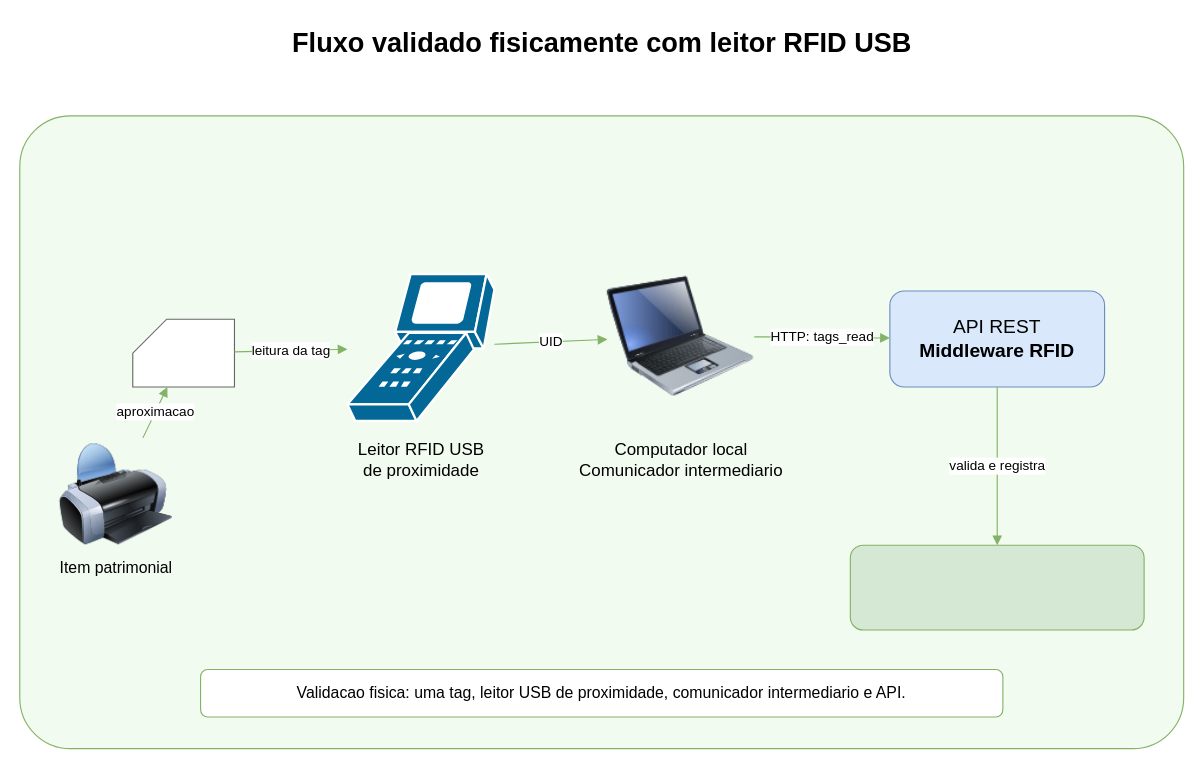
Some shapes in this 1203 by 768 pixel diagram are drawn without their labels. The box of each missing label's shape, as (x1, y1, x2, y2) in pixels:
Processamento da leitura Inventario, auditoria e historico: (849, 544, 1144, 630)
TAG: (132, 318, 234, 387)
